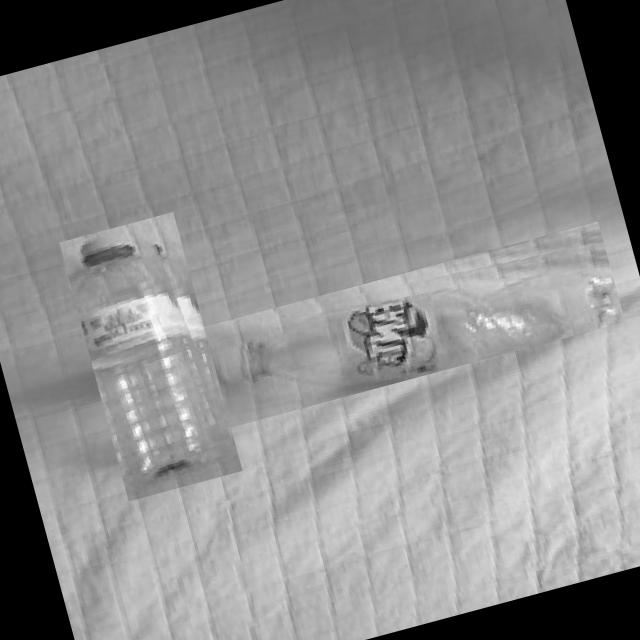plastic bottle: (203, 220, 624, 426), (59, 210, 242, 500)
